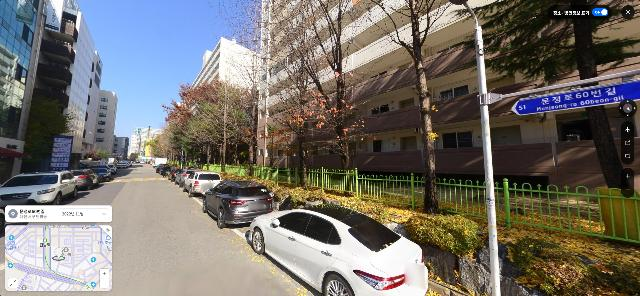other: (477, 0, 640, 226), (223, 1, 390, 191), (365, 1, 509, 215), (220, 3, 281, 180)
